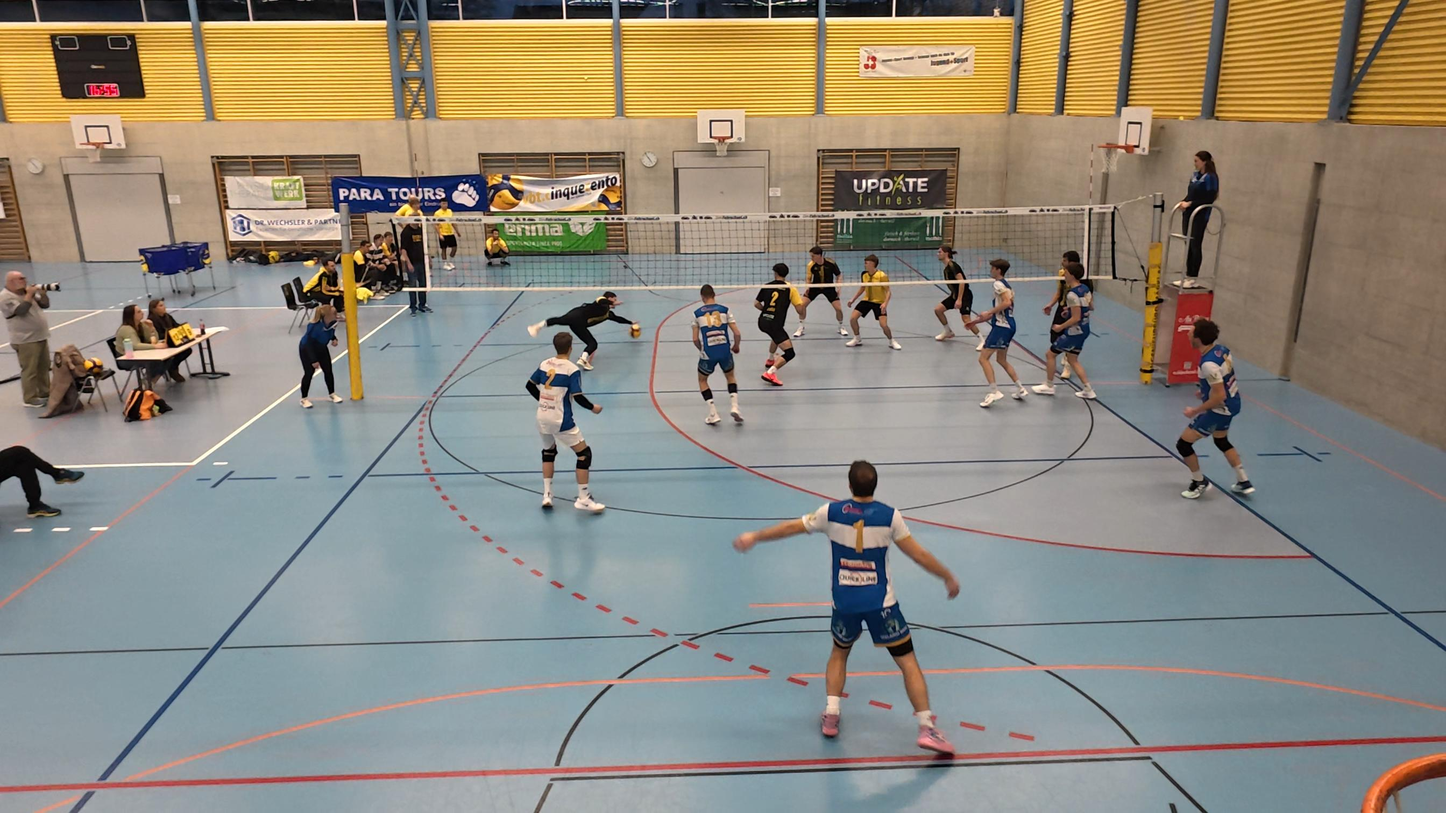difesa: (523, 290, 650, 374)
